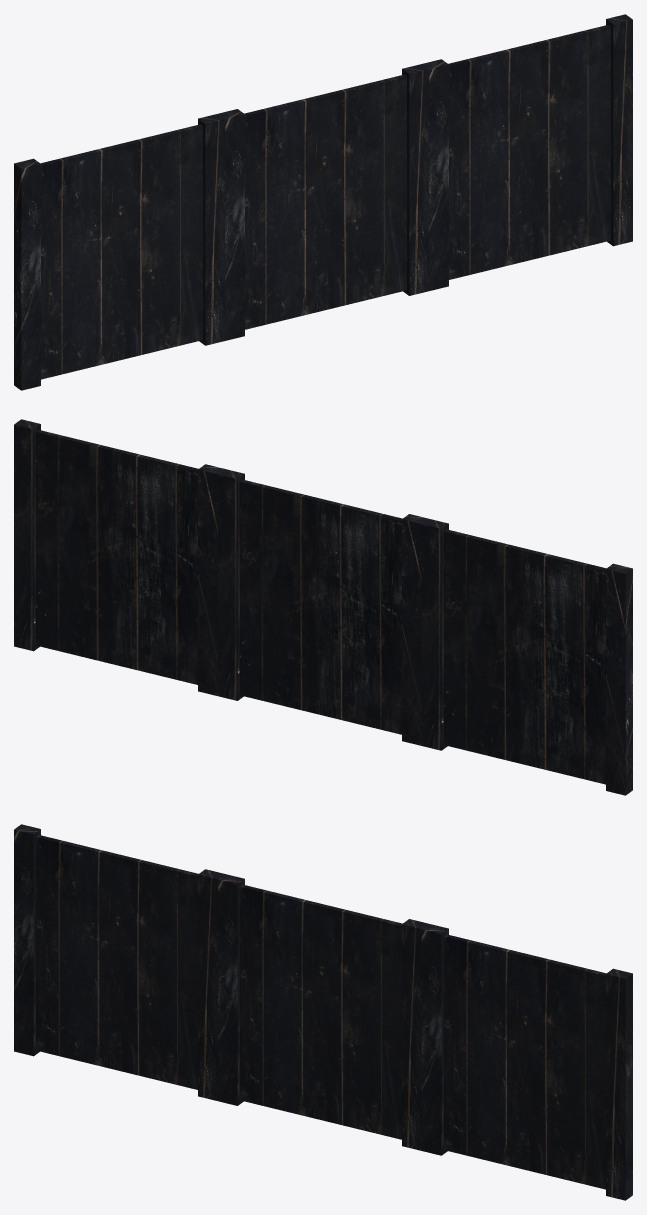
File: BathroomDoors.fbx
The picture shows the model from 3 angles, top to bottom: view 1: azimuth 30°, elevation 25°; view 2: azimuth 150°, elevation 25°; view 3: azimuth 330°, elevation 25°; orthographic projection.
Visible parts, largest first — view 1: Doors; view 2: Doors; view 3: Doors.
Part boxes in pixels (x1,y1,x2,y2): Doors: [14, 14, 632, 390]; Doors: [14, 419, 632, 795]; Doors: [14, 824, 632, 1200].
Size of the model in its own units: 1197 by 415 by 24.87.
